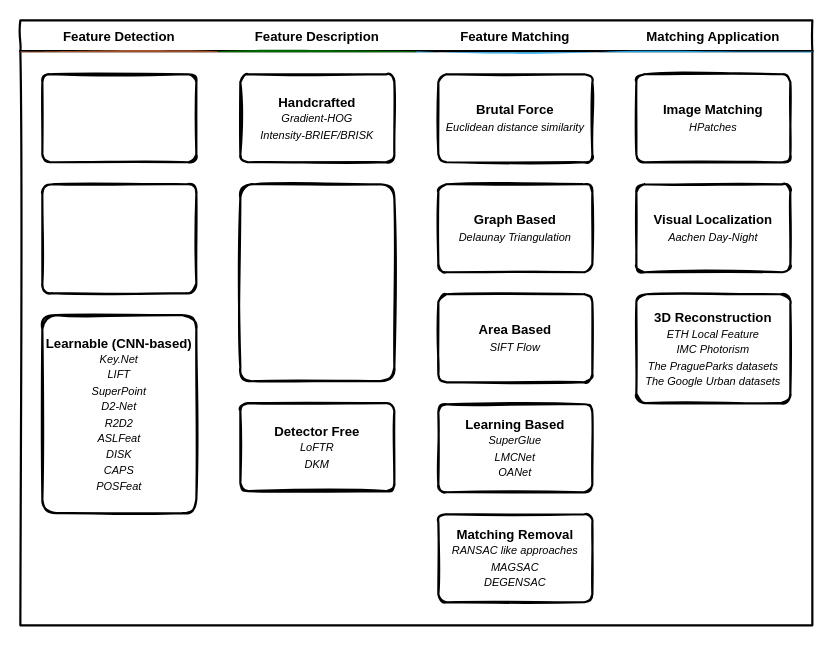
Image size: 832x645. Some labels were removed from this diagram. Each missing label, with the centre of its shape:
"Blob LoG DoH DoG Non-linear partial differentiation" goes at [119,238].
"Corner Harris Fast" goes at [119,118].
"Learnable HardNet SOSNet LIFT SuperPoint D2-Net R2D2 ASLFeat DISK CAPS POSFeat" goes at [317,282].
